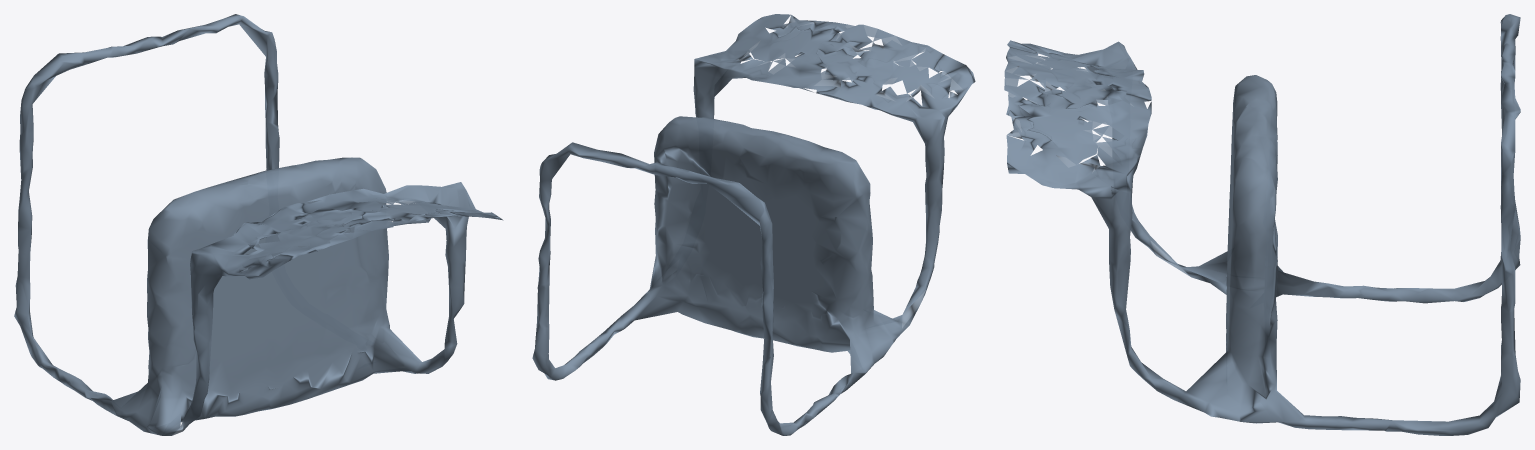
The model's file is chair_0902_original.obj.
3 renders of one model, left to right at view 1: azimuth 30°, elevation 25°; view 2: azimuth 150°, elevation 25°; view 3: azimuth 270°, elevation 25°, orthographic. The views are drawn at different scales.
Bounding box in the file's own units: 0.9739 × 0.963 × 1.47.
